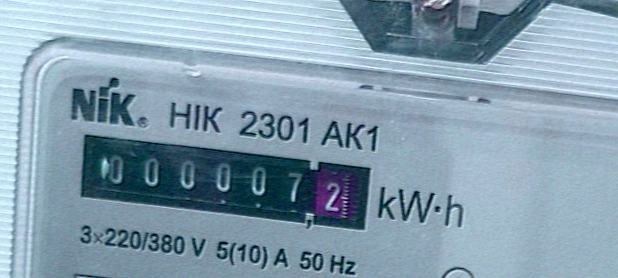0: (174, 153, 201, 194), (245, 160, 271, 199), (103, 149, 129, 187), (211, 158, 236, 197), (140, 152, 164, 189)
2: (320, 177, 345, 215)
7: (281, 166, 306, 206)
screen: (70, 123, 382, 240)
